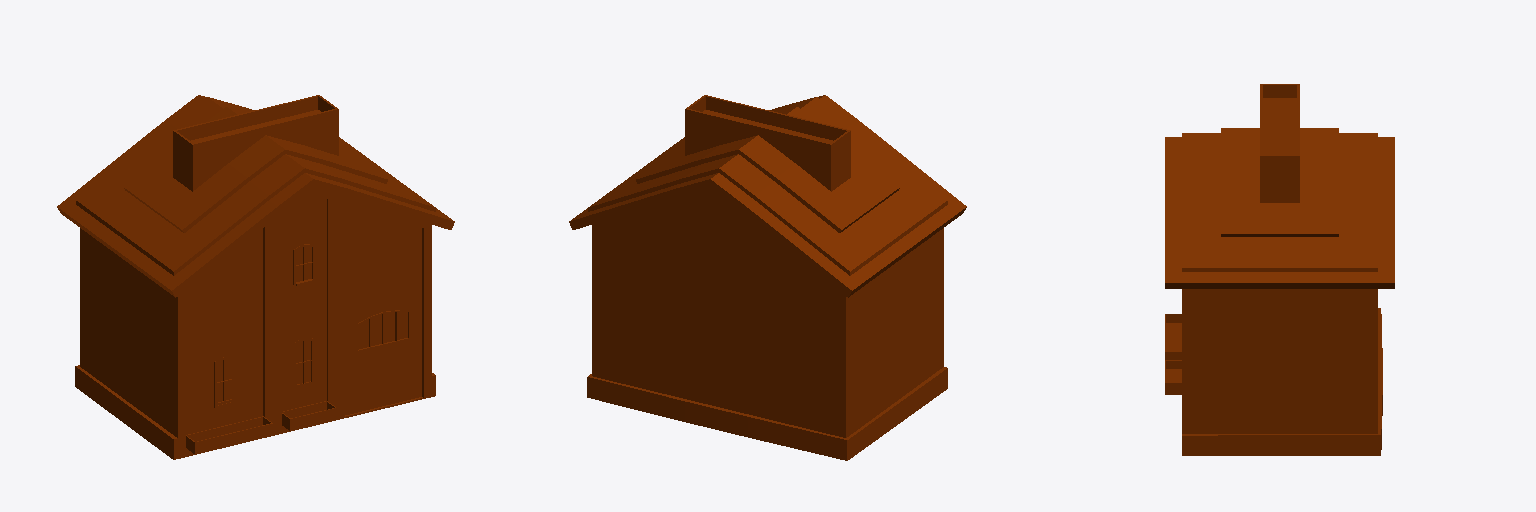
The model's file is Building_002.obj.
3 views of the same model, side by side, from view 1: azimuth 30°, elevation 25°; view 2: azimuth 150°, elevation 25°; view 3: azimuth 270°, elevation 25° (orthographic).
Parts seen in each view (by area): view 1: Box001; view 2: Box001; view 3: Box001.
Part boxes in pixels (left/top/right/bottom): Box001: left=57, top=95, right=454, bottom=459; Box001: left=569, top=95, right=966, bottom=460; Box001: left=1165, top=84, right=1394, bottom=455.
Bounding box in the file's own units: 224 × 206 × 158.